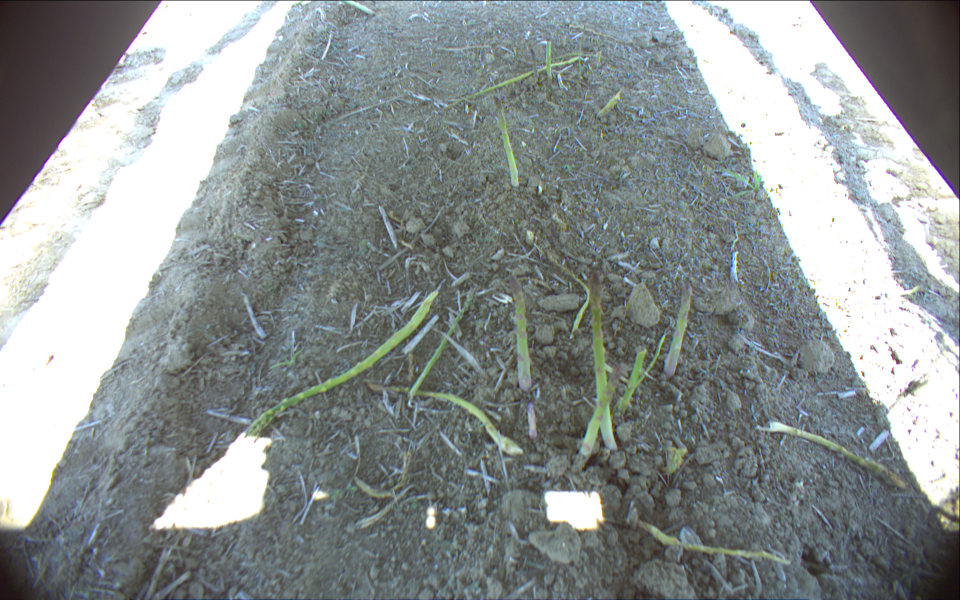aspa: (583, 269, 621, 456), (502, 271, 537, 396), (490, 93, 525, 188), (661, 276, 694, 376), (541, 35, 556, 85)
